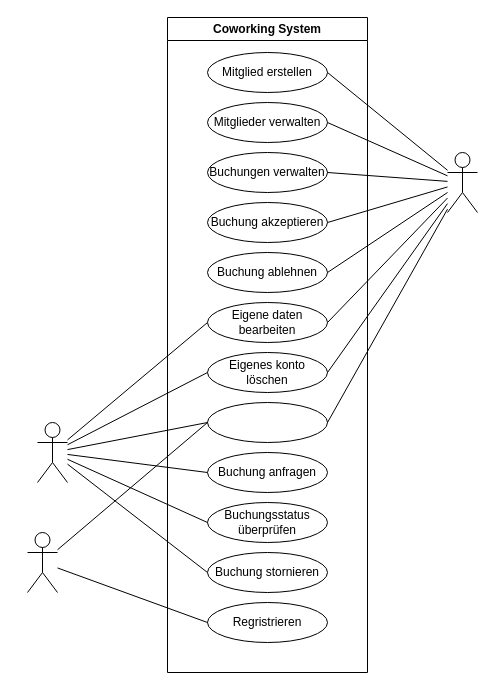
This 497x690 diagram has some shape labels left out. The centre of each missing label's shape, as x and y in pixels:
"Admin" goes at pixel 462 182.
"Anmelden" goes at pixel 267 422.
"Besucher" goes at pixel 42 562.
"Mitglied" goes at pixel 52 452.
